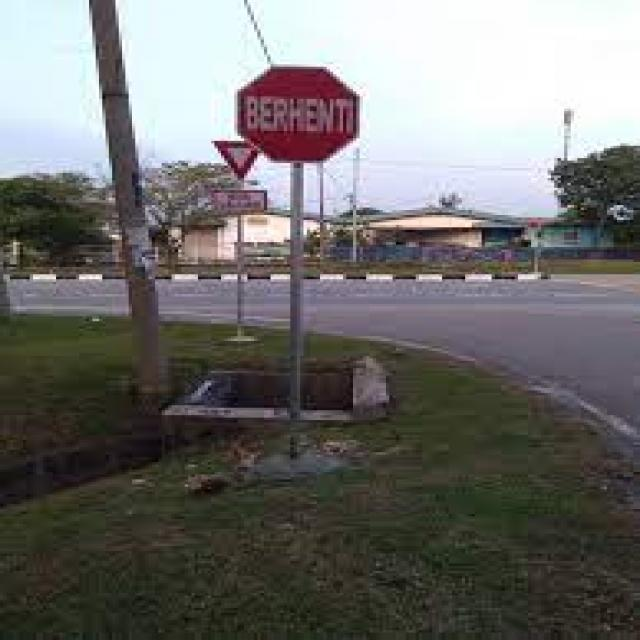stop-sign: (207, 45, 408, 196)
